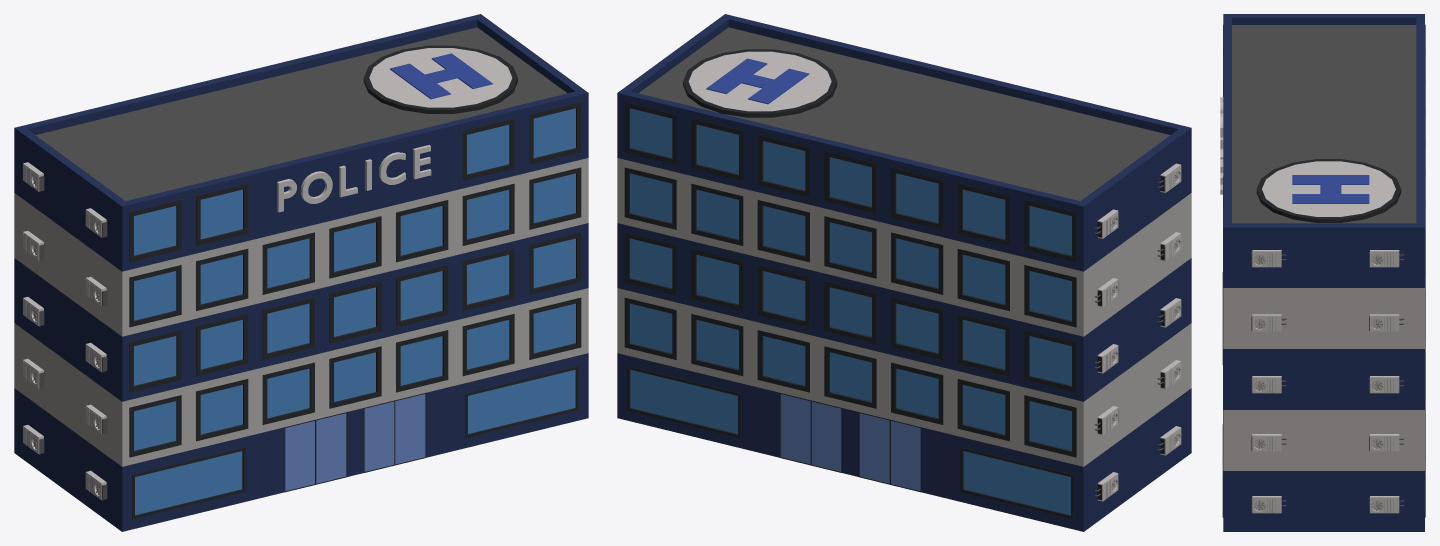
File: PoliceStation_1.fbx
3 views of the same model, side by side, from view 1: azimuth 30°, elevation 25°; view 2: azimuth 150°, elevation 25°; view 3: azimuth 270°, elevation 25° (orthographic). The views are drawn at different scales.
Parts seen in each view (by area): view 1: PoliceStation_1; view 2: PoliceStation_1; view 3: PoliceStation_1.
Part boxes in pixels (x1,y1,x2,y2): PoliceStation_1: (14,14,588,531); PoliceStation_1: (617,14,1191,531); PoliceStation_1: (1220,14,1425,531).
Size of the model in its own units: 2242 by 1468 by 897.
